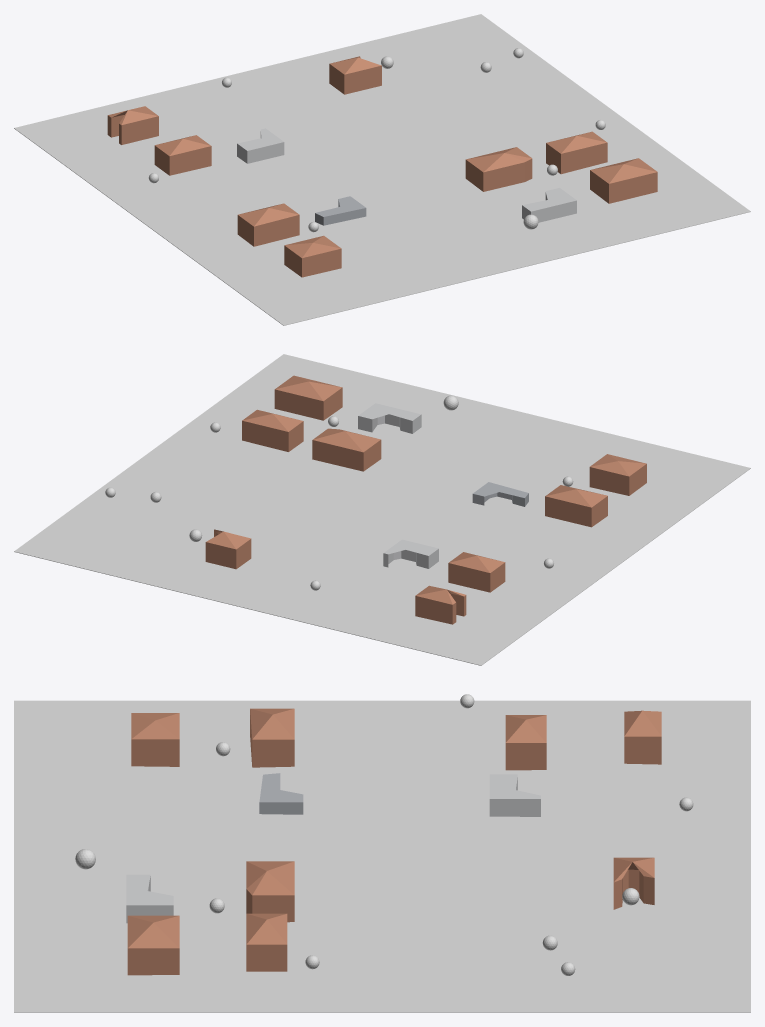
3 renders of one model, top to bottom at view 1: azimuth 30°, elevation 25°; view 2: azimuth 150°, elevation 25°; view 3: azimuth 270°, elevation 25°, orthographic. The views are drawn at different scales.
Visible parts, largest first — view 1: Ground_Base, BLD-010, BLD-007, BLD-006, BLD-008, BLD-009, BLD-003, BLD-002, BLD-001, BLD-011, BLD-004, BLD-005; view 2: Ground_Base, BLD-010, BLD-007, BLD-006, BLD-008, BLD-009, BLD-003, BLD-001, BLD-002, BLD-011, BLD-004, BLD-005; view 3: Ground_Base, BLD-010, BLD-007, BLD-006, BLD-009, BLD-008, BLD-003, BLD-001, BLD-004, BLD-002, BLD-011, BLD-005.
Part boxes in pixels (bbox=[...]): Ground_Base: bbox=[14, 14, 750, 325]; BLD-010: bbox=[590, 158, 657, 203]; BLD-007: bbox=[465, 147, 532, 191]; BLD-006: bbox=[237, 203, 299, 246]; BLD-008: bbox=[546, 131, 607, 174]; BLD-009: bbox=[284, 235, 341, 277]; BLD-003: bbox=[154, 135, 211, 175]; BLD-002: bbox=[329, 56, 381, 94]; BLD-001: bbox=[107, 106, 158, 144]; BLD-011: bbox=[522, 187, 576, 222]; BLD-004: bbox=[237, 128, 284, 163]; BLD-005: bbox=[315, 196, 366, 225]; Ground_Base: bbox=[14, 354, 750, 665]; BLD-010: bbox=[274, 375, 342, 420]; BLD-007: bbox=[312, 428, 381, 471]; BLD-006: bbox=[545, 485, 607, 527]; BLD-008: bbox=[242, 409, 303, 451]; BLD-009: bbox=[589, 454, 646, 495]; BLD-003: bbox=[448, 552, 505, 592]; BLD-001: bbox=[415, 585, 466, 624]; BLD-002: bbox=[205, 529, 251, 569]; BLD-011: bbox=[358, 403, 421, 433]; BLD-004: bbox=[383, 539, 438, 568]; BLD-005: bbox=[472, 482, 528, 506]; Ground_Base: bbox=[14, 700, 750, 1012]; BLD-010: bbox=[127, 915, 179, 975]; BLD-007: bbox=[246, 861, 294, 922]; BLD-006: bbox=[250, 708, 294, 767]; BLD-009: bbox=[131, 713, 179, 766]; BLD-008: bbox=[246, 913, 287, 971]; BLD-003: bbox=[505, 715, 546, 770]; BLD-001: bbox=[624, 710, 661, 764]; BLD-004: bbox=[489, 774, 540, 816]; BLD-002: bbox=[613, 857, 654, 909]; BLD-011: bbox=[126, 874, 173, 923]; BLD-005: bbox=[259, 773, 303, 814].
Size of the model in its own units: 410 by 24.53 by 410.
